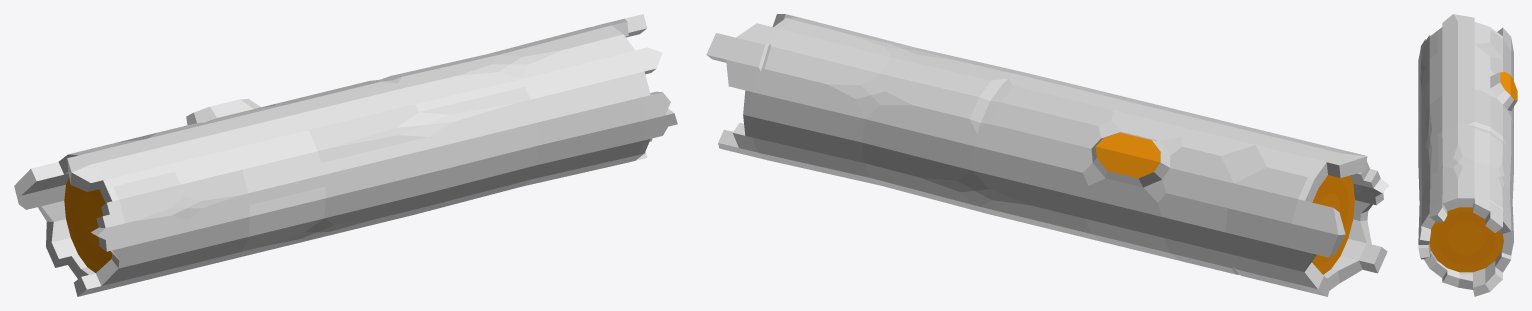
File: Log_8.fbx
The picture shows the model from 3 angles, left to right: view 1: azimuth 30°, elevation 25°; view 2: azimuth 150°, elevation 25°; view 3: azimuth 270°, elevation 25°; orthographic projection. The views are drawn at different scales.
Parts seen in each view (by area): view 1: Circle.198; view 2: Circle.198; view 3: Circle.198.
Boxes of the visible parts, left/top/right/bottom form: Circle.198: left=14, top=14, right=677, bottom=296; Circle.198: left=706, top=14, right=1389, bottom=296; Circle.198: left=1418, top=14, right=1517, bottom=296.
Size of the model in its own units: 105 by 20.44 by 21.48.
